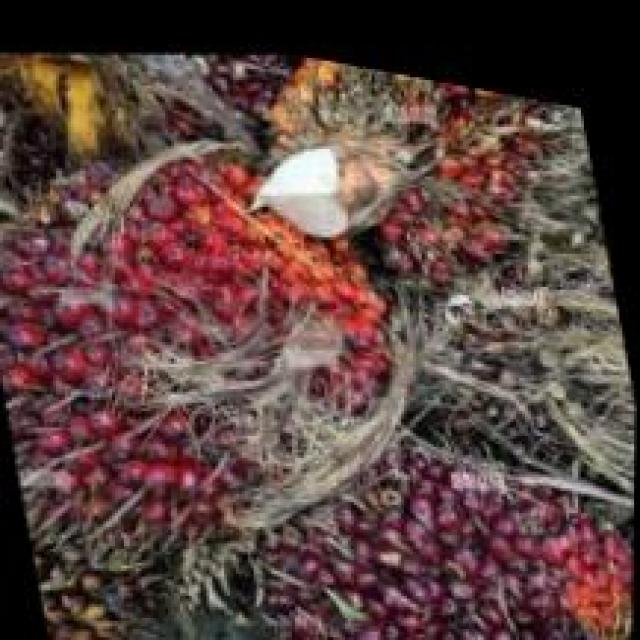Ripefruit: (0, 82, 439, 637), (220, 397, 636, 640), (242, 37, 569, 297)
